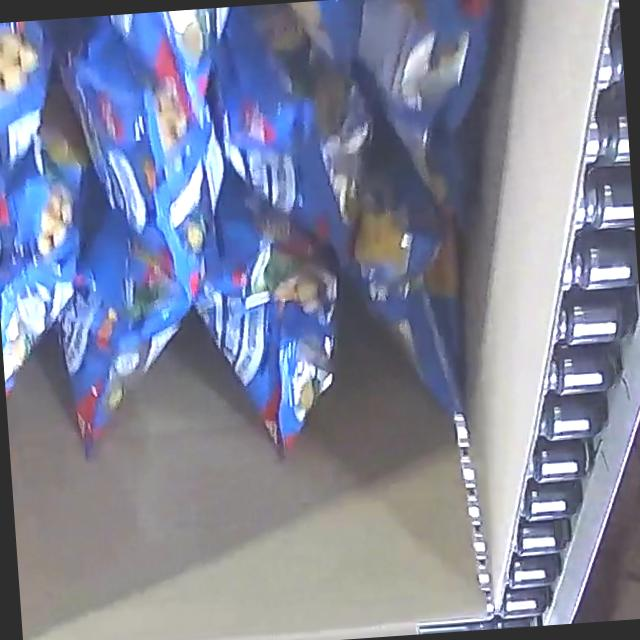paprika: (0, 0, 542, 483)
